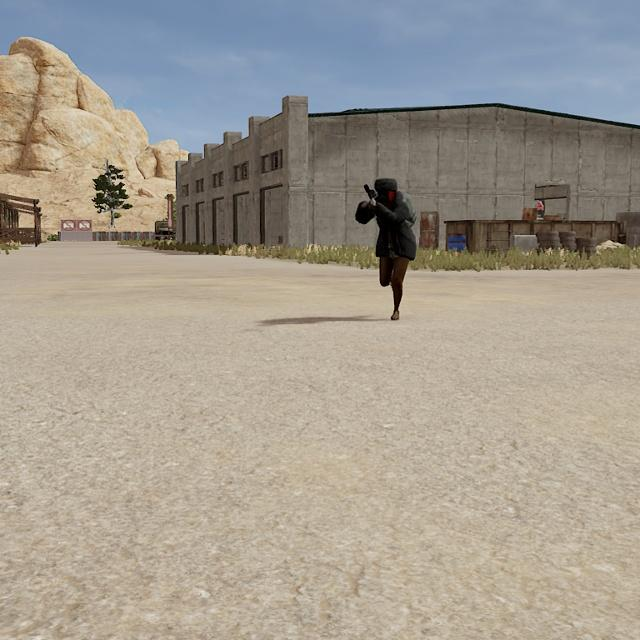head: (373, 178, 399, 205)
people: (355, 177, 418, 322)
